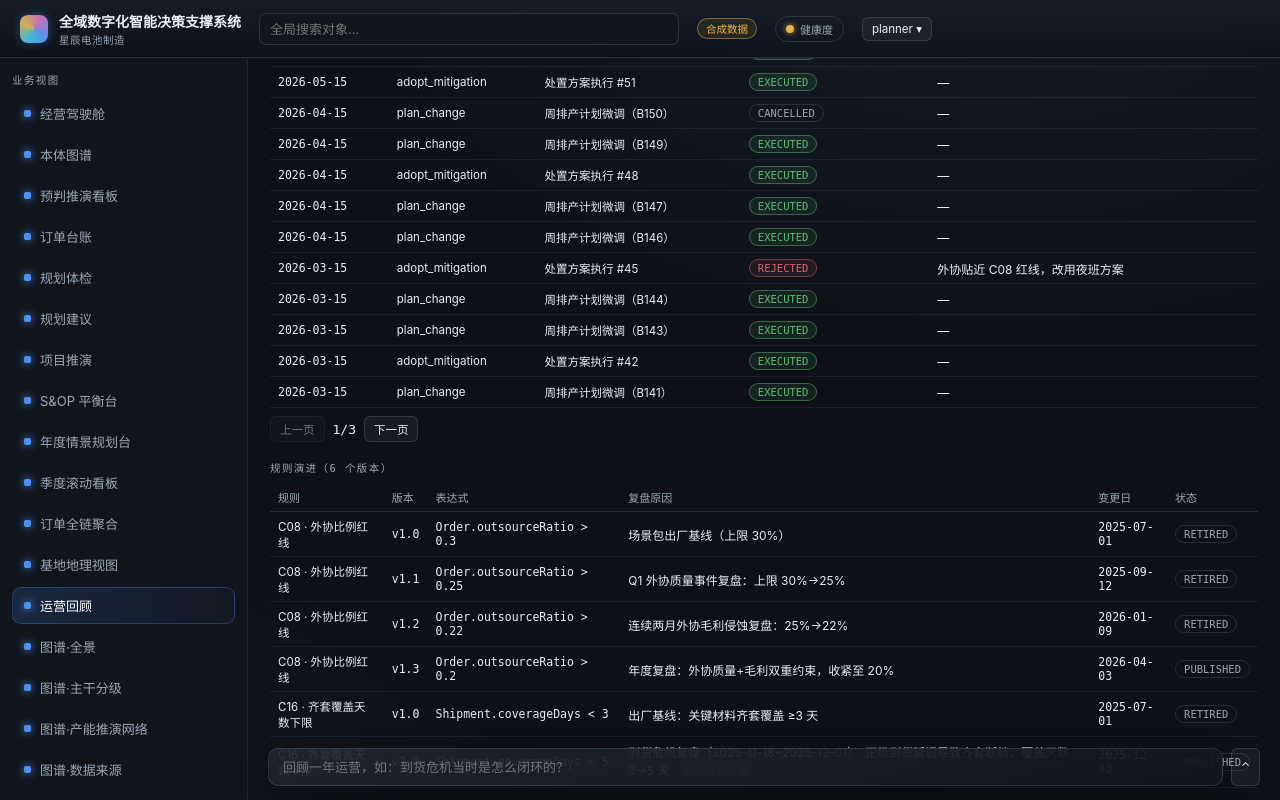
it: F37 · 运营态出厂配置（lived-in） › 运营回顾：Action 审计史分页（60 条 / 每页 20 → 3 页，翻页换数据）
(page scrolled)
Check: the text with test id "action-page-indicator" reads "1/3", box [332,422,356,436]
Click the button with test id "action-page-next" at (391, 429), box [364,416,418,442]
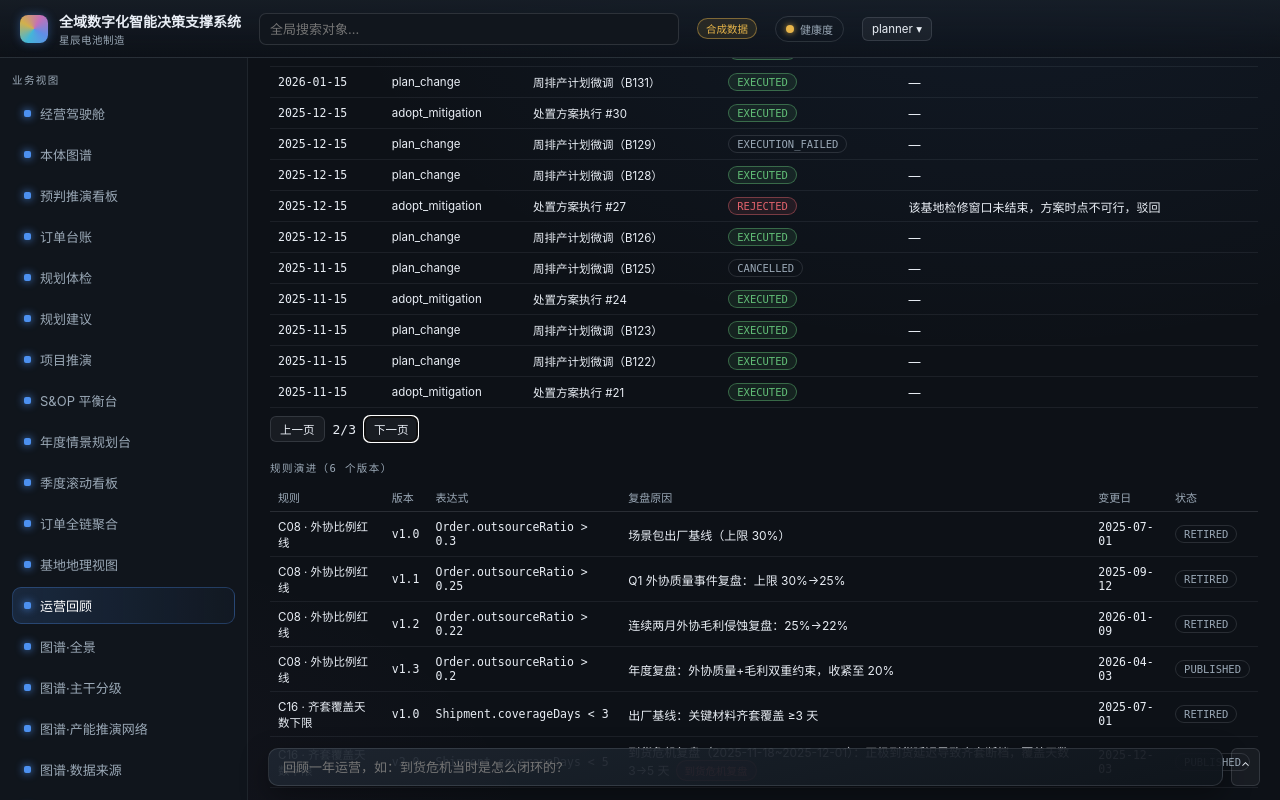
Check: the text with test id "action-page-indicator" reads "2/3", box [332,422,356,436]
